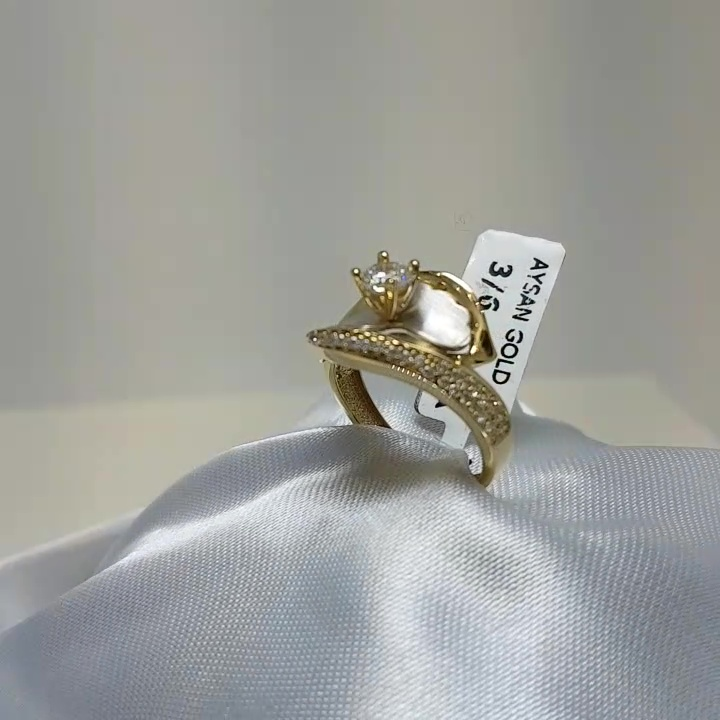Ring 6: (295, 235, 538, 499)
